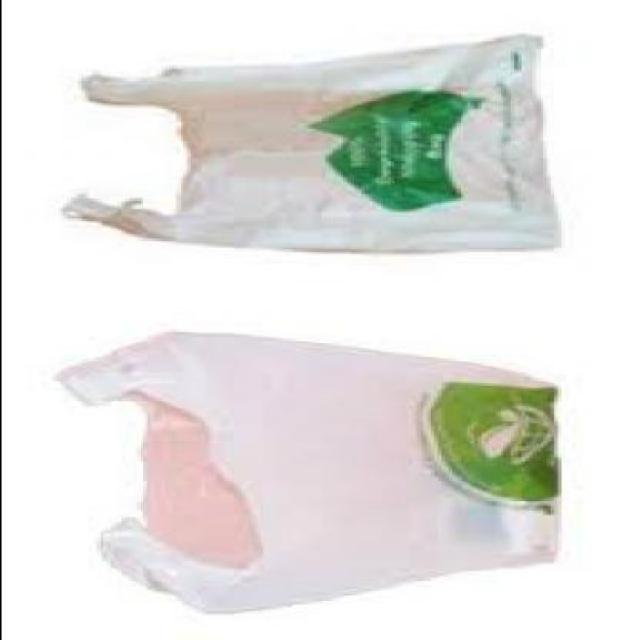PLASTIC: (51, 335, 560, 613), (55, 38, 553, 256)
